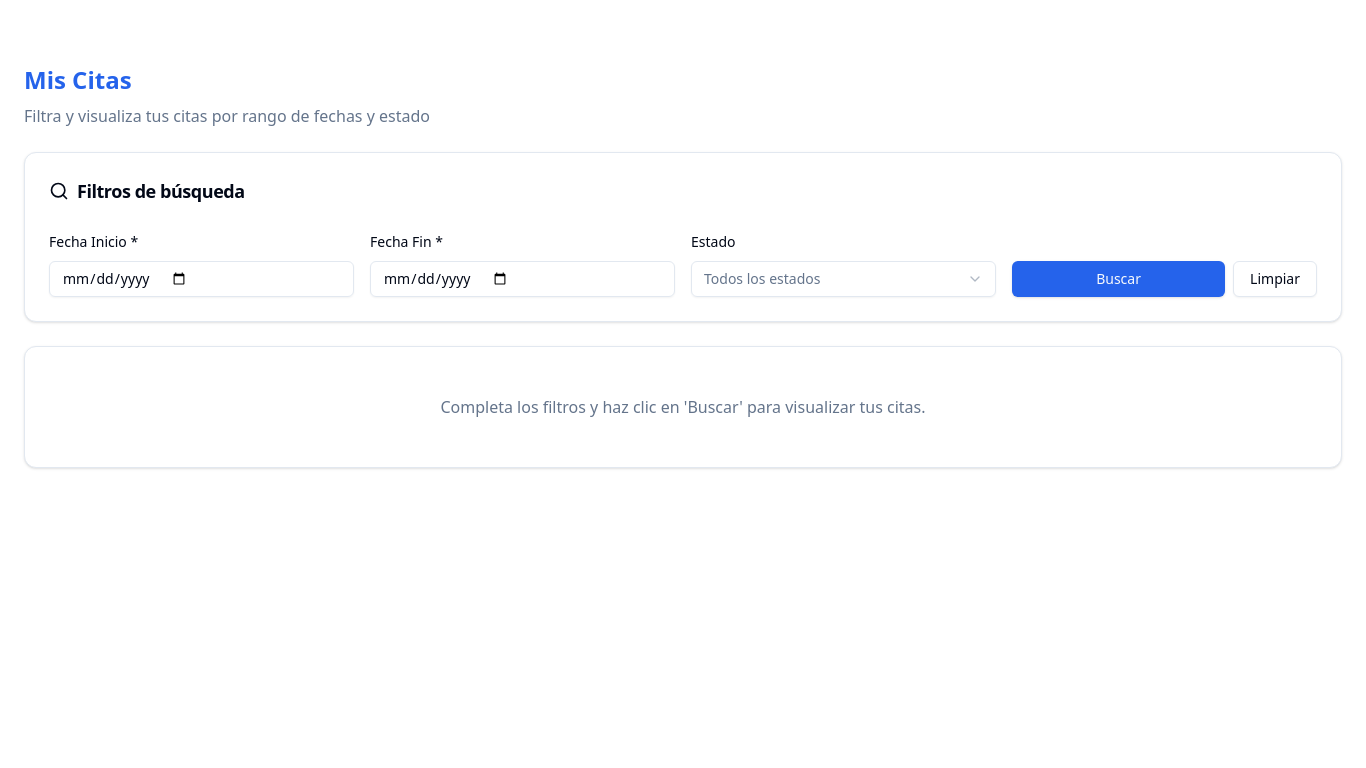
it: ListAppointmentsComponent › Filtrado por estado › debe mostrar todas las citas al seleccionar "Todos los estados"
In the date field below "Fecha Inicio *": (202, 279) [49, 261, 354, 297], type "2025-04-01"
In the date field below "Fecha Fin *": (522, 279) [370, 261, 675, 297], type "2025-04-30"
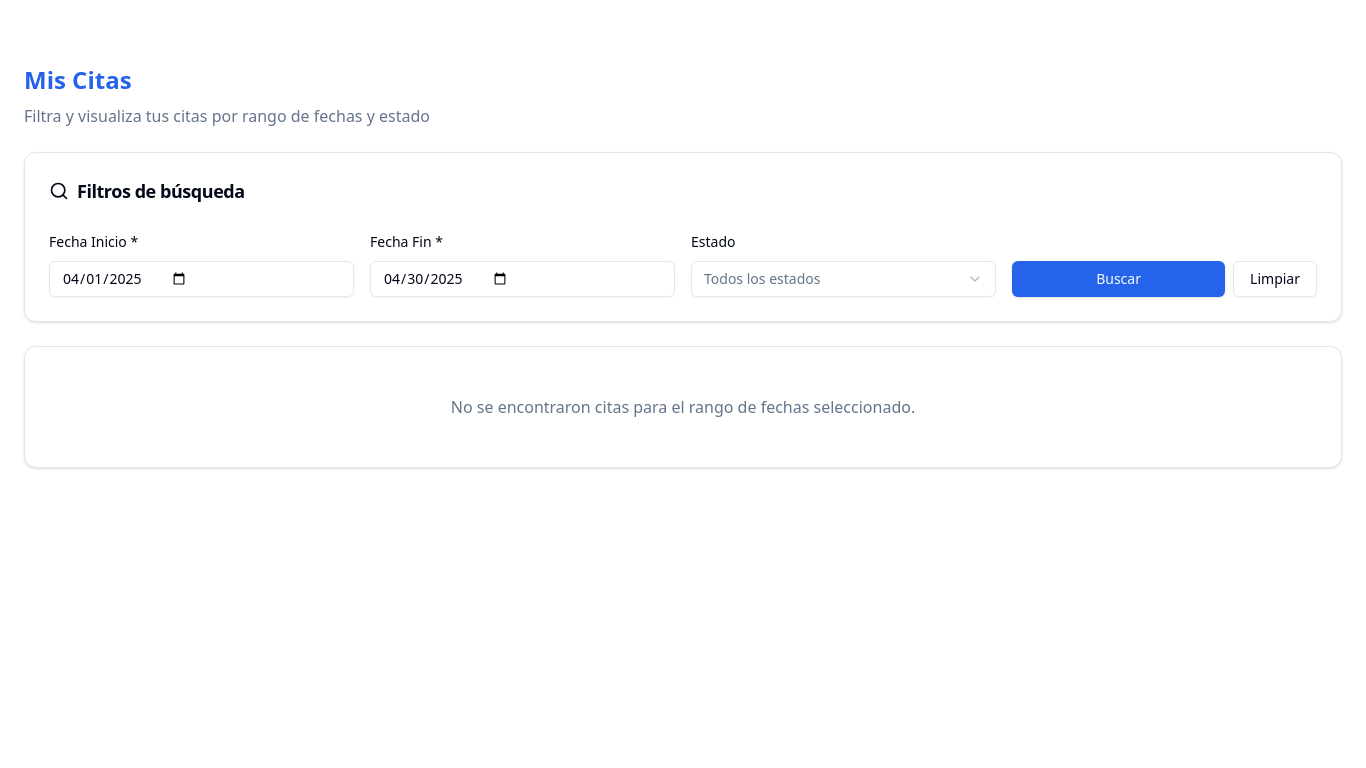
Click the button "Buscar": (1119, 279) [1012, 261, 1225, 297]
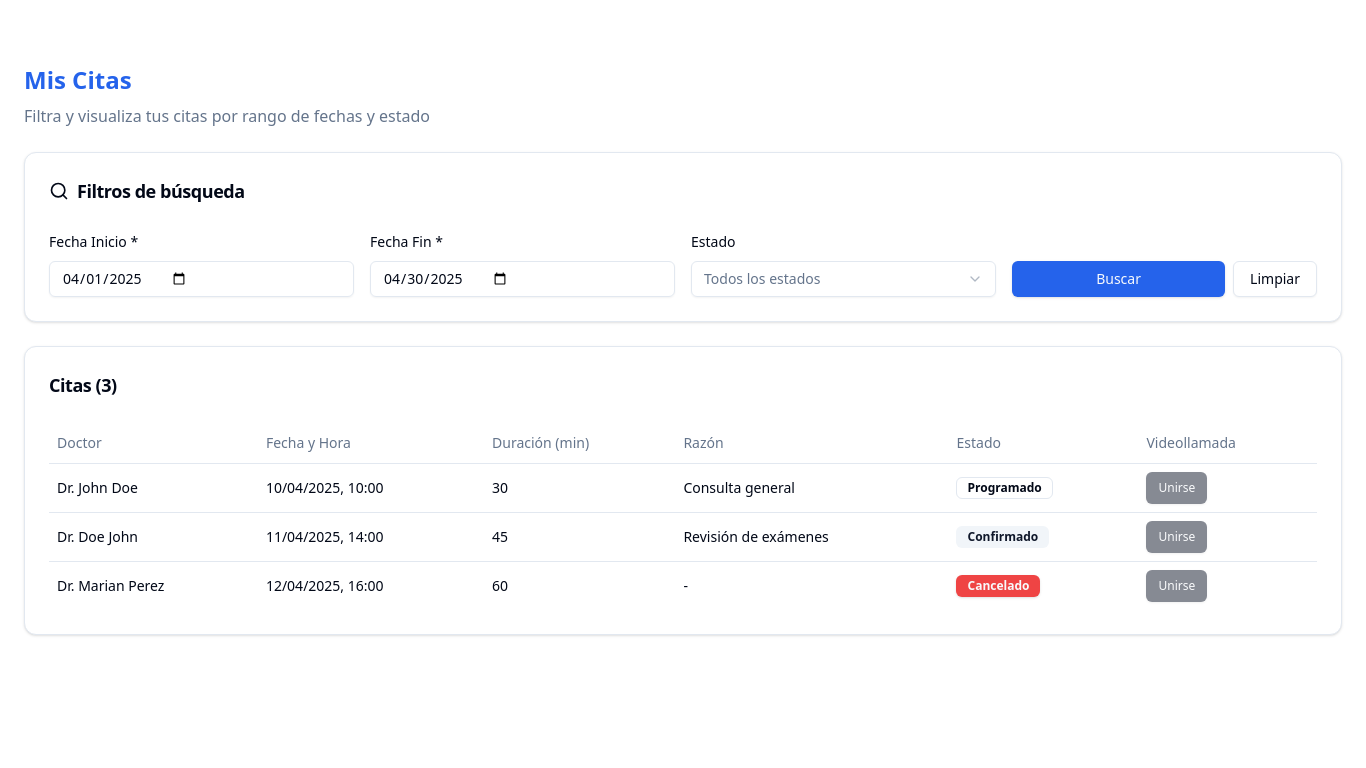
Now the text "Citas (3)" is shown, box [49, 373, 117, 397]
# Abrir select y seleccionar un estado
Click the dropdown: (762, 278) [691, 261, 996, 297]
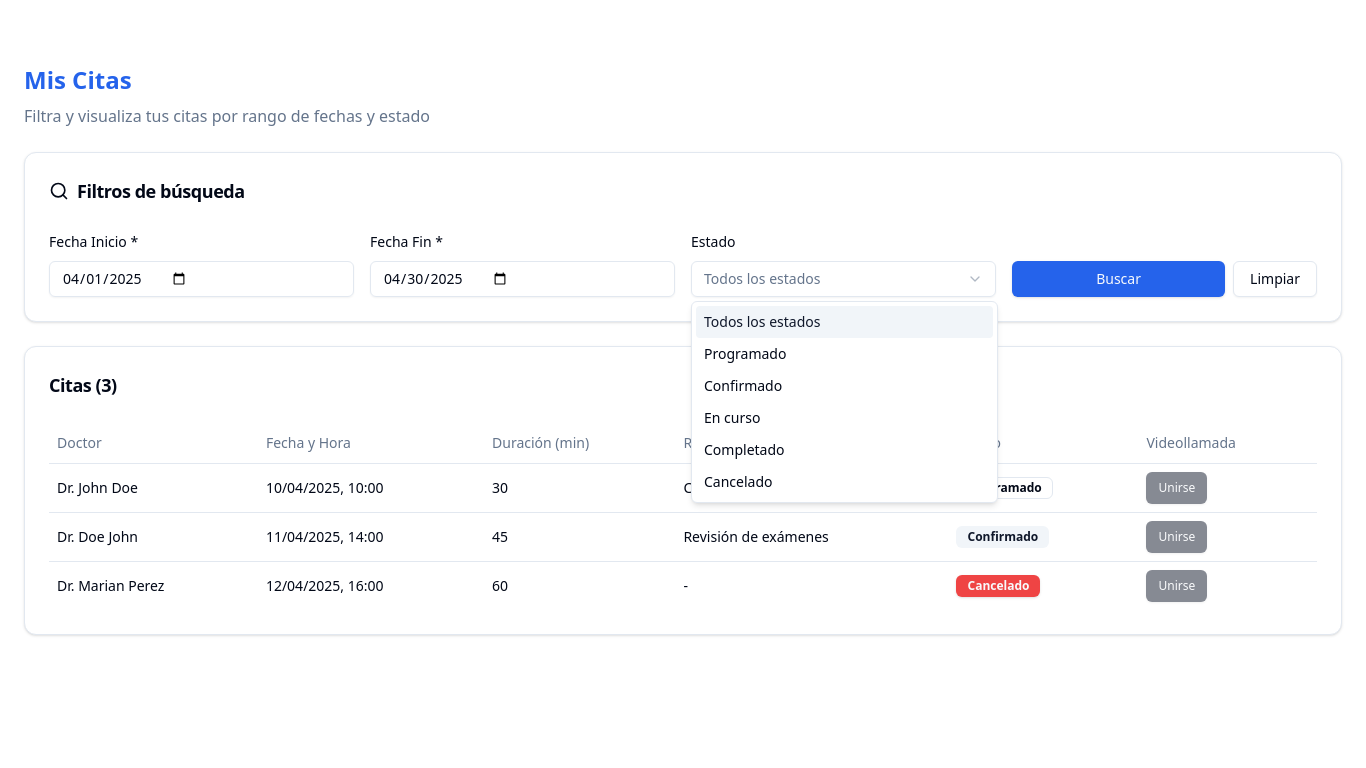
Click the option "Confirmado": (743, 386) [704, 376, 782, 395]
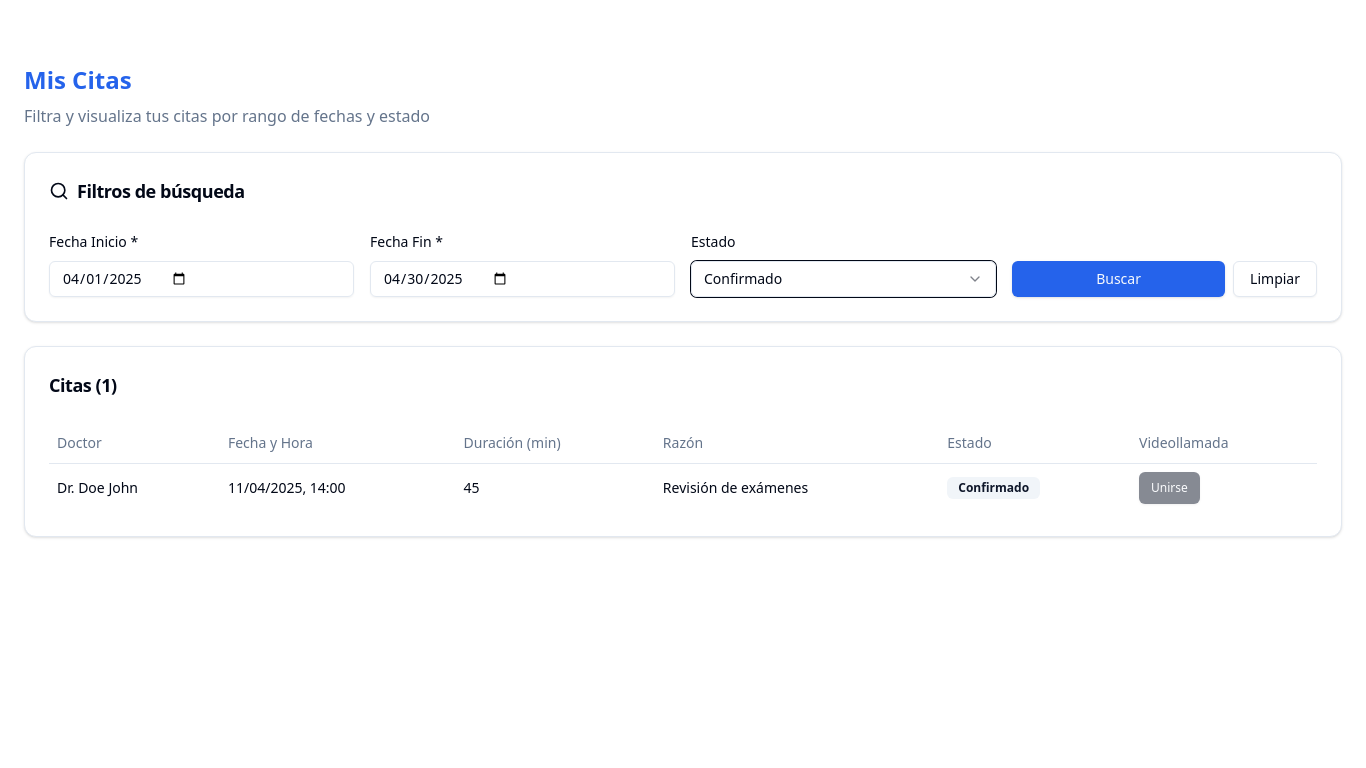
Now the text "Citas (1)" is shown, box [49, 373, 117, 397]
Click the dropdown: (743, 278) [691, 261, 996, 297]
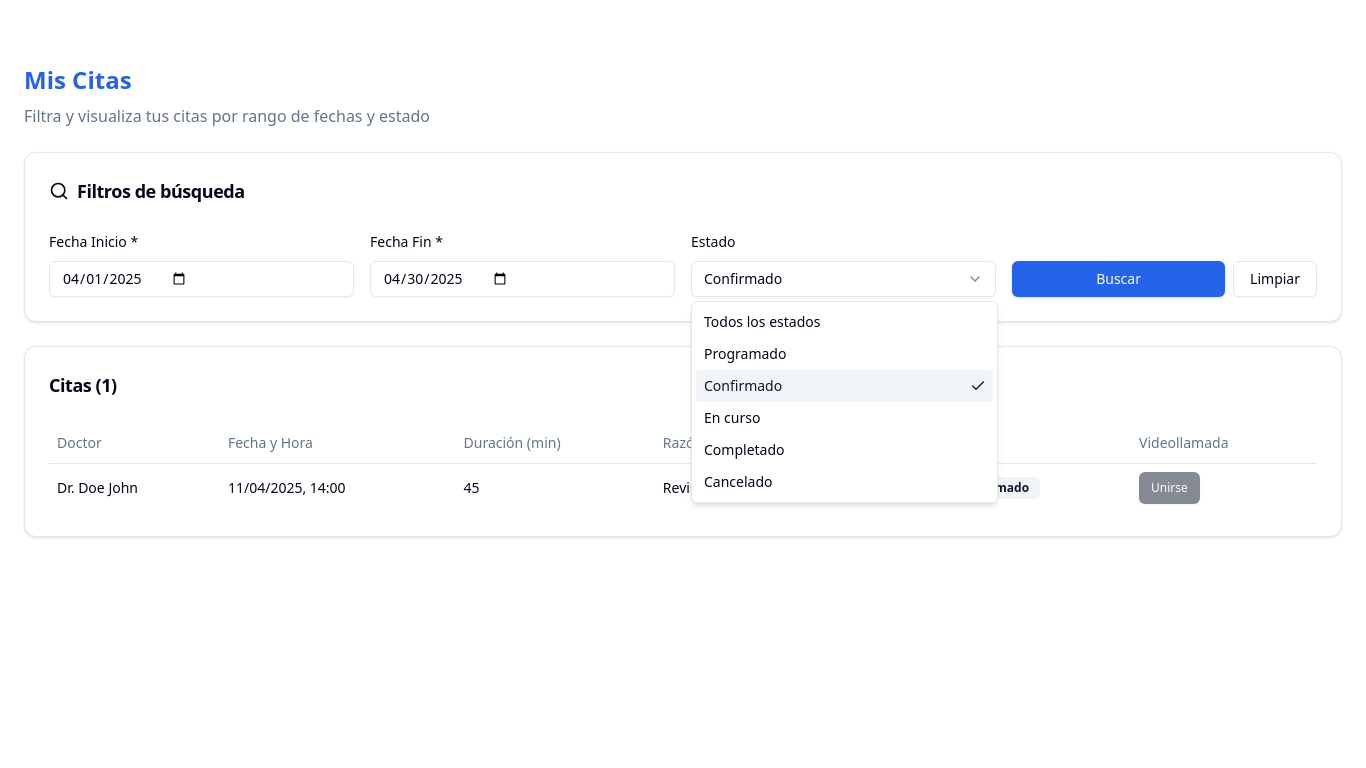
Click the option "Todos los estados": (762, 322) [704, 312, 820, 331]
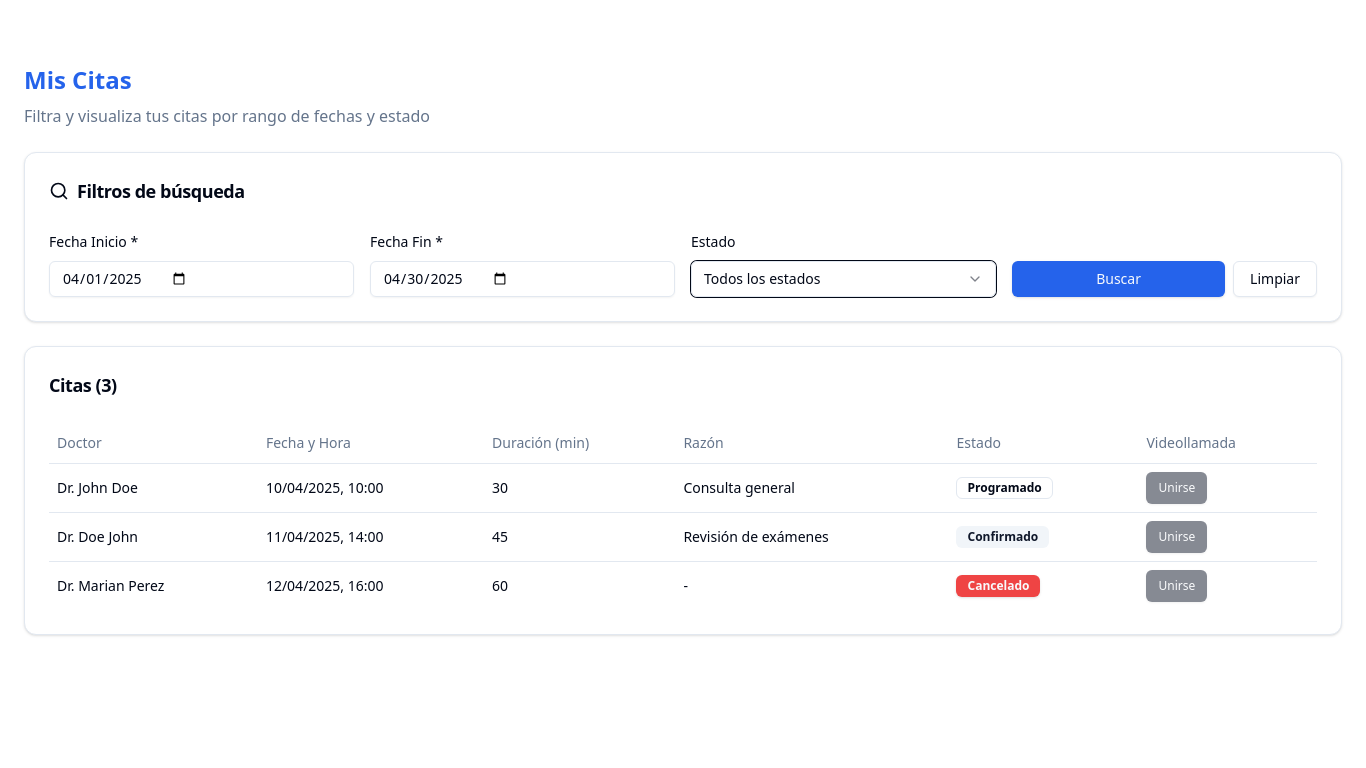
Now the text "Citas (3)" is shown, box [49, 373, 117, 397]
